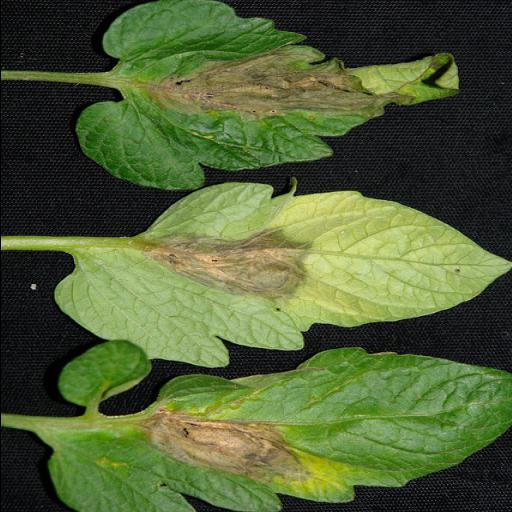disease_tomato: (52, 181, 512, 367), (44, 347, 512, 512), (76, 0, 396, 191)
